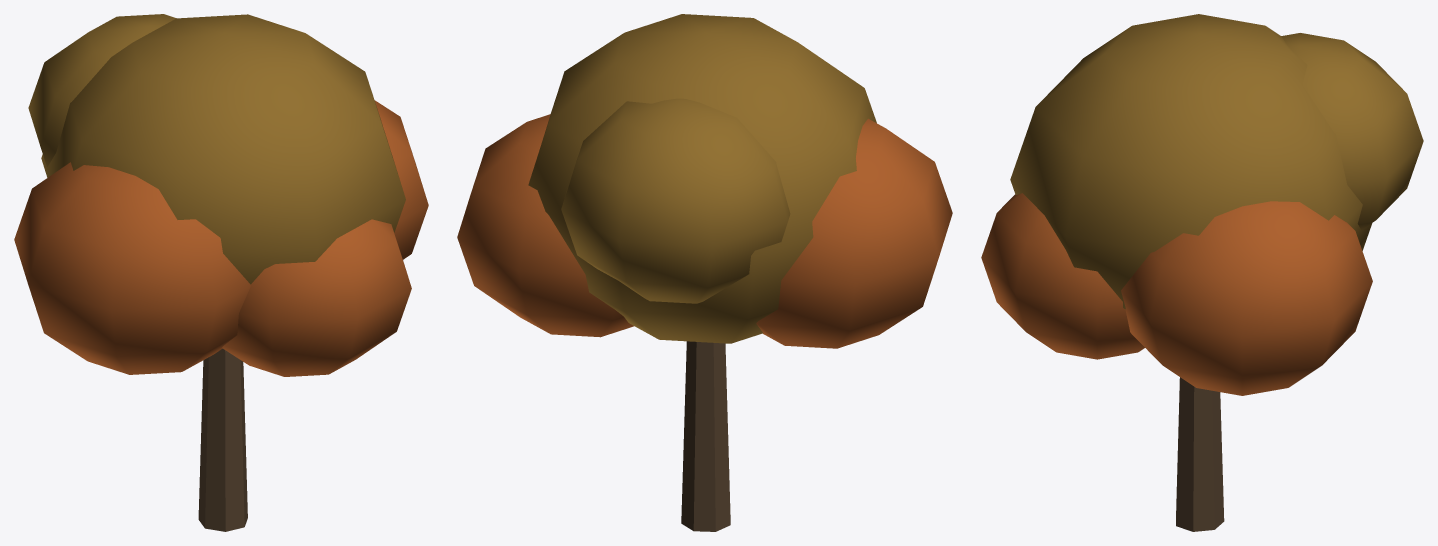
Rendered from tree_oak.glb.
The picture shows the model from 3 angles, left to right: view 1: azimuth 30°, elevation 25°; view 2: azimuth 150°, elevation 25°; view 3: azimuth 270°, elevation 25°; orthographic projection.
Visible parts, largest first — view 1: tree_oak; view 2: tree_oak; view 3: tree_oak.
Boxes of the visible parts, x1,y1,x2,y2 form: tree_oak: [14, 14, 428, 531]; tree_oak: [457, 14, 952, 531]; tree_oak: [981, 14, 1423, 531].
Bounding box in the file's own units: 6.8 × 7.41 × 6.1.
